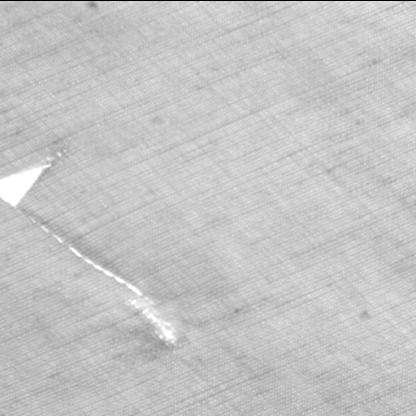hole: (1, 204, 195, 352), (1, 147, 75, 207)
